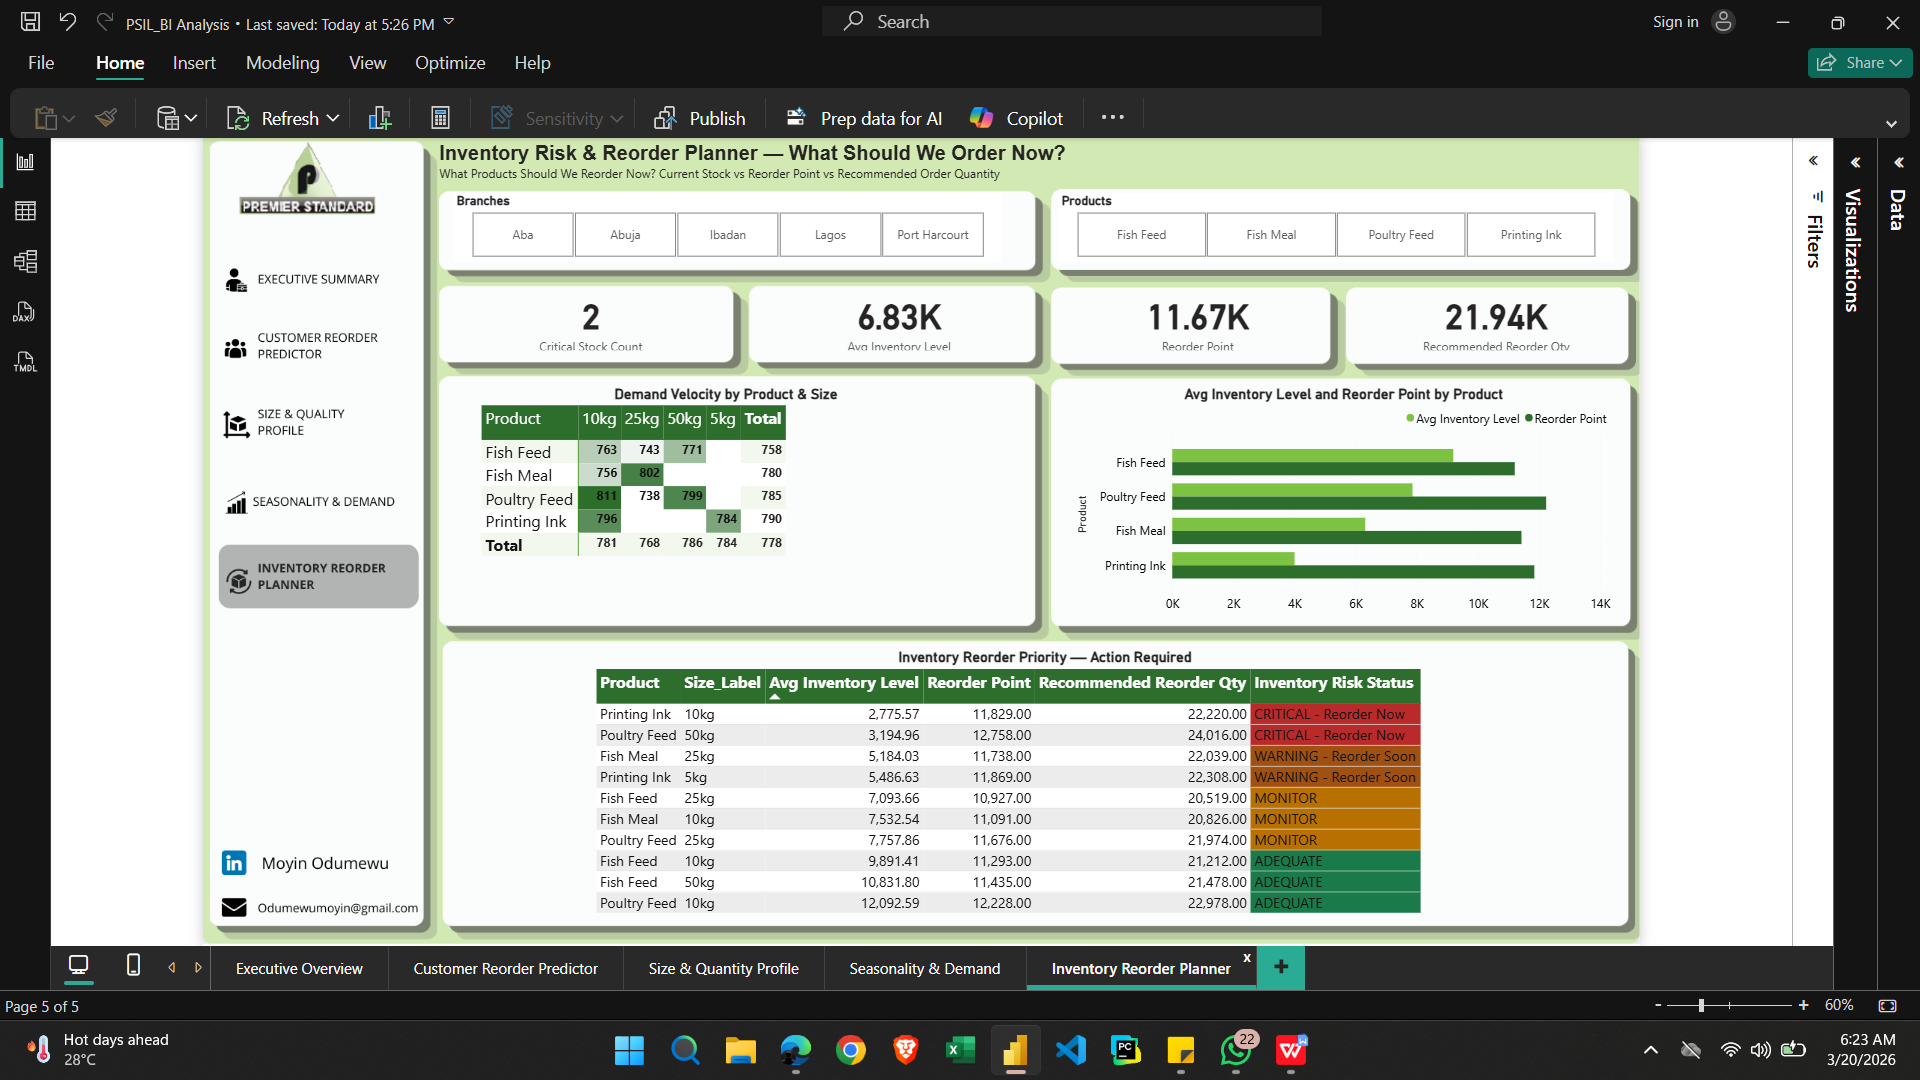

This screenshot's page, from the dashboard's own definition file:
{"tool":"powerbi","page":{"name":"Inventory Reorder Planner","canvas":[1920,1080],"ordinal":4},"visuals":[{"type":"textbox","box":[311,0,911,73.6],"z":0},{"type":"slicer","title":"Branches","fields":{"Values":["FactOrders.Branch"]},"box":[333.1,73.6,732.5,92],"z":1000},{"type":"slicer","title":"Products","fields":{"Values":["FactOrders.Product"]},"box":[1143,73.6,741.7,92],"z":2000},{"type":"card","fields":{"Values":["Table.Critical Stock Count"]},"box":[403.1,200.6,231.9,88.3],"z":3000},{"type":"card","fields":{"Values":["Table.Avg Inventory Level"]},"box":[830.1,200.6,200.6,88.3],"z":4000},{"type":"card","fields":{"Values":["Table.Reorder Point"]},"box":[1177.9,200.6,303.7,88.3],"z":5000},{"type":"card","fields":{"Values":["Table.Recommended Reorder Qty"]},"box":[1606.8,200.6,242.9,88.3],"z":6000},{"type":"tableEx","title":"Inventory Reorder Priority — Action Required","fields":{"Values":["FactOrders.Product","FactOrders.Size_Label","Table.Avg Inventory Level","Table.Reorder Point","Table.Recommended Reorder Qty","Table.Inventory Risk Status"]},"box":[519,682.8,1211,360.7],"z":7000},{"type":"clusteredBarChart","fields":{"Category":["FactOrders.Product"],"Y":["Table.Avg Inventory Level","Table.Reorder Point"]},"box":[1161.4,331.3,723.3,312.9],"z":8000},{"type":"pivotTable","title":"Demand Velocity by Product & Size","fields":{"Rows":["FactOrders.Product"],"Values":["Table.Demand Velocity"],"Columns":["FactOrders.Size_Label"]},"box":[368.1,331.3,662.6,261.4],"z":9000}]}

Visuals, with their boxes on the page's 1920x1080 design canvas (x1, y1, x2, y2). These are canvas units, not pixel positions in the 1920x1080 screenshot, which may show the page scaled, cropped or inside an application window:
textbox: Rect(311, 0, 1222, 74)
"Branches" slicer: Rect(333, 74, 1066, 166)
"Products" slicer: Rect(1143, 74, 1885, 166)
card - Table.Critical Stock Count: Rect(403, 201, 635, 289)
card - Table.Avg Inventory Level: Rect(830, 201, 1031, 289)
card - Table.Reorder Point: Rect(1178, 201, 1482, 289)
card - Table.Recommended Reorder Qty: Rect(1607, 201, 1850, 289)
"Inventory Reorder Priority — Action Required" tableEx: Rect(519, 683, 1730, 1044)
clusteredBarChart - FactOrders.Product x Table.Avg Inventory Level: Rect(1161, 331, 1885, 644)
"Demand Velocity by Product & Size" pivotTable: Rect(368, 331, 1031, 593)
